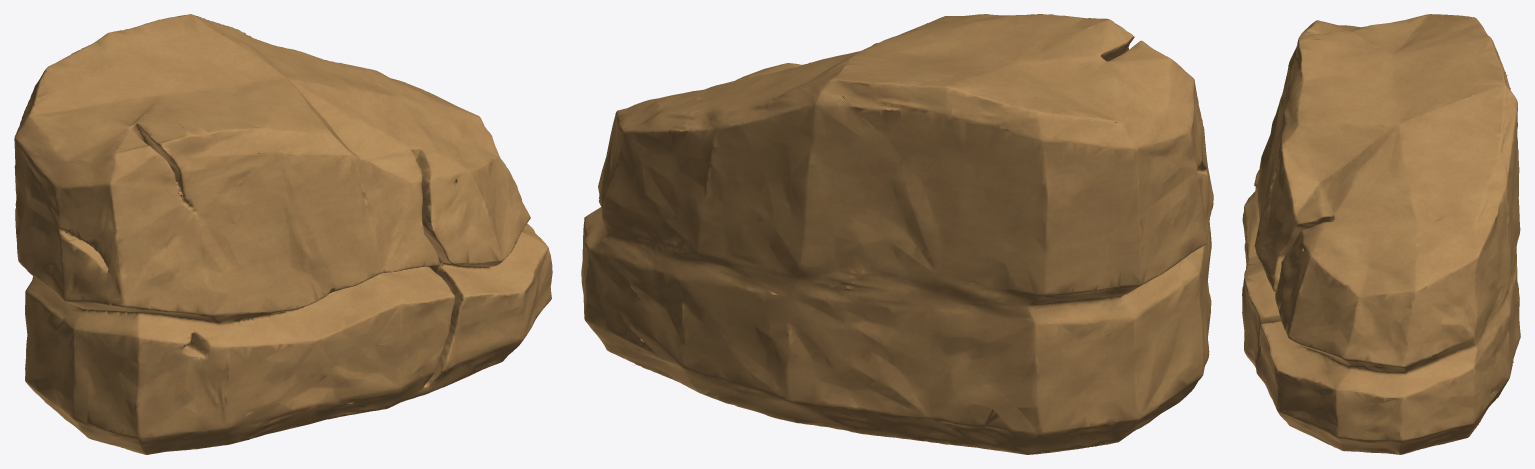
File: sandstone.glb
3 views of the same model, side by side, from view 1: azimuth 30°, elevation 25°; view 2: azimuth 150°, elevation 25°; view 3: azimuth 270°, elevation 25° (orthographic). The views are drawn at different scales.
Visible parts, largest first — view 1: sandstone-low; view 2: sandstone-low; view 3: sandstone-low.
Boxes of the visible parts, x1,y1,x2,y2 form: sandstone-low: (14,14,552,454); sandstone-low: (581,14,1213,454); sandstone-low: (1242,14,1520,454).
Size of the model in its own units: 7.68 by 4.6 by 4.26.
1 material, 1 textured.
